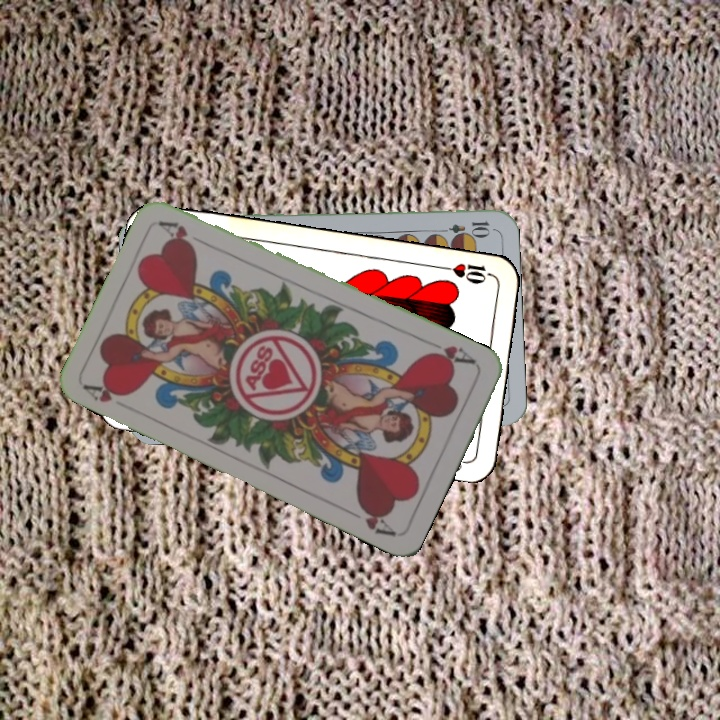E10: (433, 217, 493, 237)
H10: (438, 259, 497, 287)
HA: (422, 336, 479, 369), (80, 377, 133, 405)
